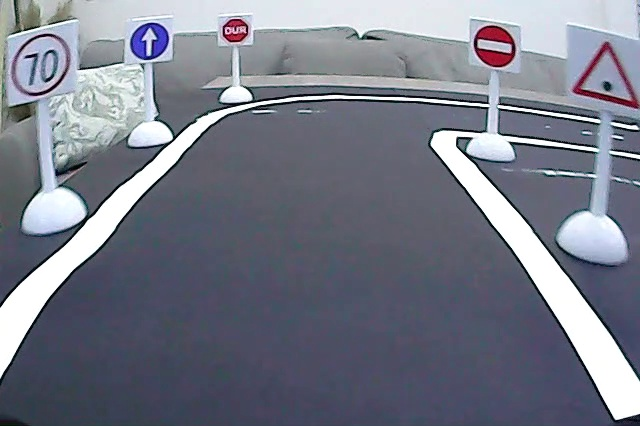do not enter: (472, 22, 518, 70)
green light: (566, 39, 640, 113)
speed limit 70: (10, 31, 72, 99)
stop sign: (221, 16, 251, 45)
